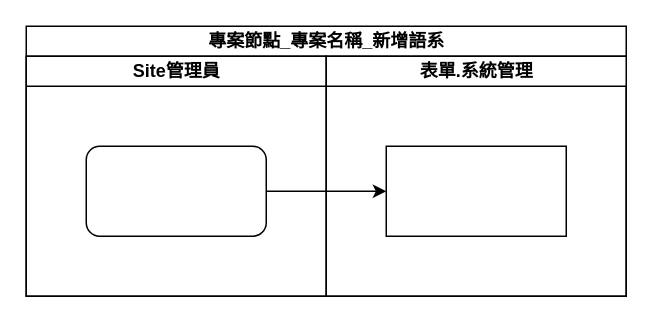
The diagram is 653 pixels wide and 323 high, and some of its shapes have lost their labels. Here are the shapes that lost their labels. From the top down, the centre of each, then its label:
At (x=175, y=190): "點擊按鈕.新增語系".
At (x=475, y=190): "新增一筆 空白語系名稱".
